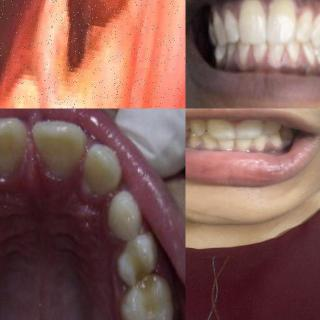cavities: (7, 0, 148, 100), (126, 271, 150, 287)
plaque: (242, 0, 264, 36), (269, 0, 295, 28), (289, 11, 311, 43), (268, 48, 284, 78), (283, 42, 299, 68), (299, 50, 315, 73), (235, 48, 249, 72), (252, 43, 266, 63), (311, 14, 320, 38)
